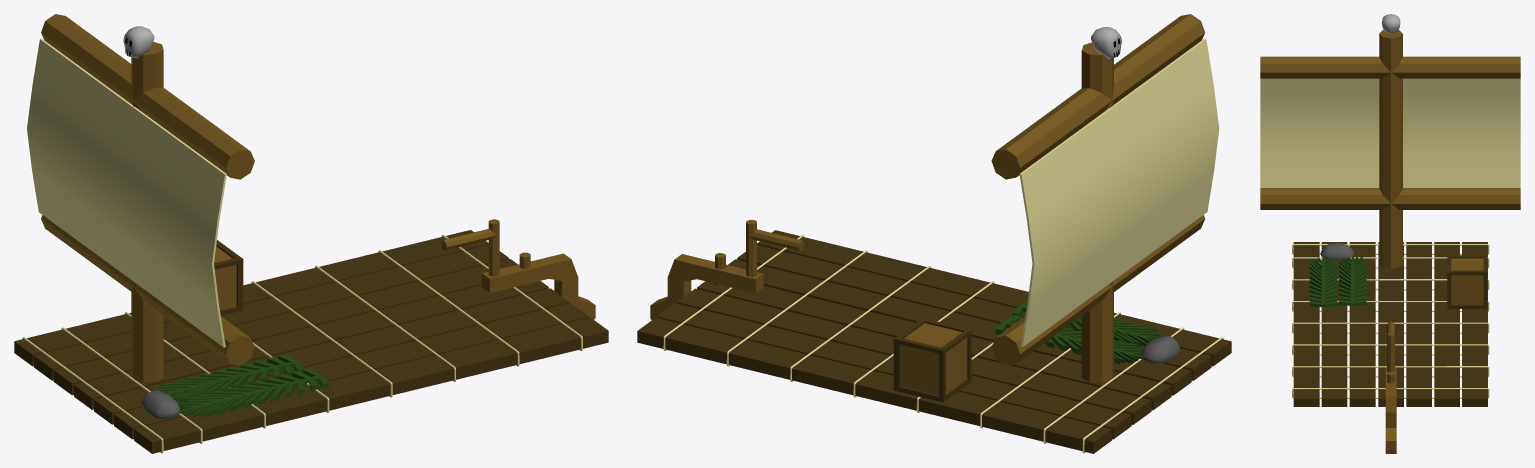
File: RaftCombined.fbx
The picture shows the model from 3 angles, left to right: view 1: azimuth 30°, elevation 25°; view 2: azimuth 150°, elevation 25°; view 3: azimuth 270°, elevation 25°; orthographic projection. The views are drawn at different scales.
Visible parts, largest first — view 1: Skull1; view 2: Skull1; view 3: Skull1.
Boxes of the visible parts, bbox=[...] form: Skull1: bbox=[14, 14, 608, 453]; Skull1: bbox=[637, 14, 1231, 453]; Skull1: bbox=[1260, 14, 1520, 453].
Size of the model in its own units: 16.05 by 12.31 by 10.12.
